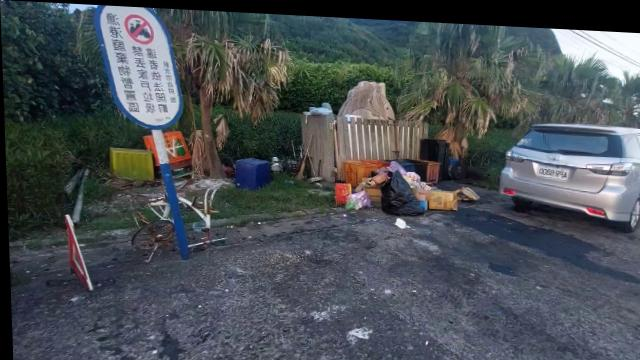pollute: (333, 154, 480, 213), (162, 127, 231, 187), (124, 192, 177, 254), (107, 133, 159, 178), (174, 187, 217, 225), (232, 154, 271, 189), (395, 213, 408, 225)
